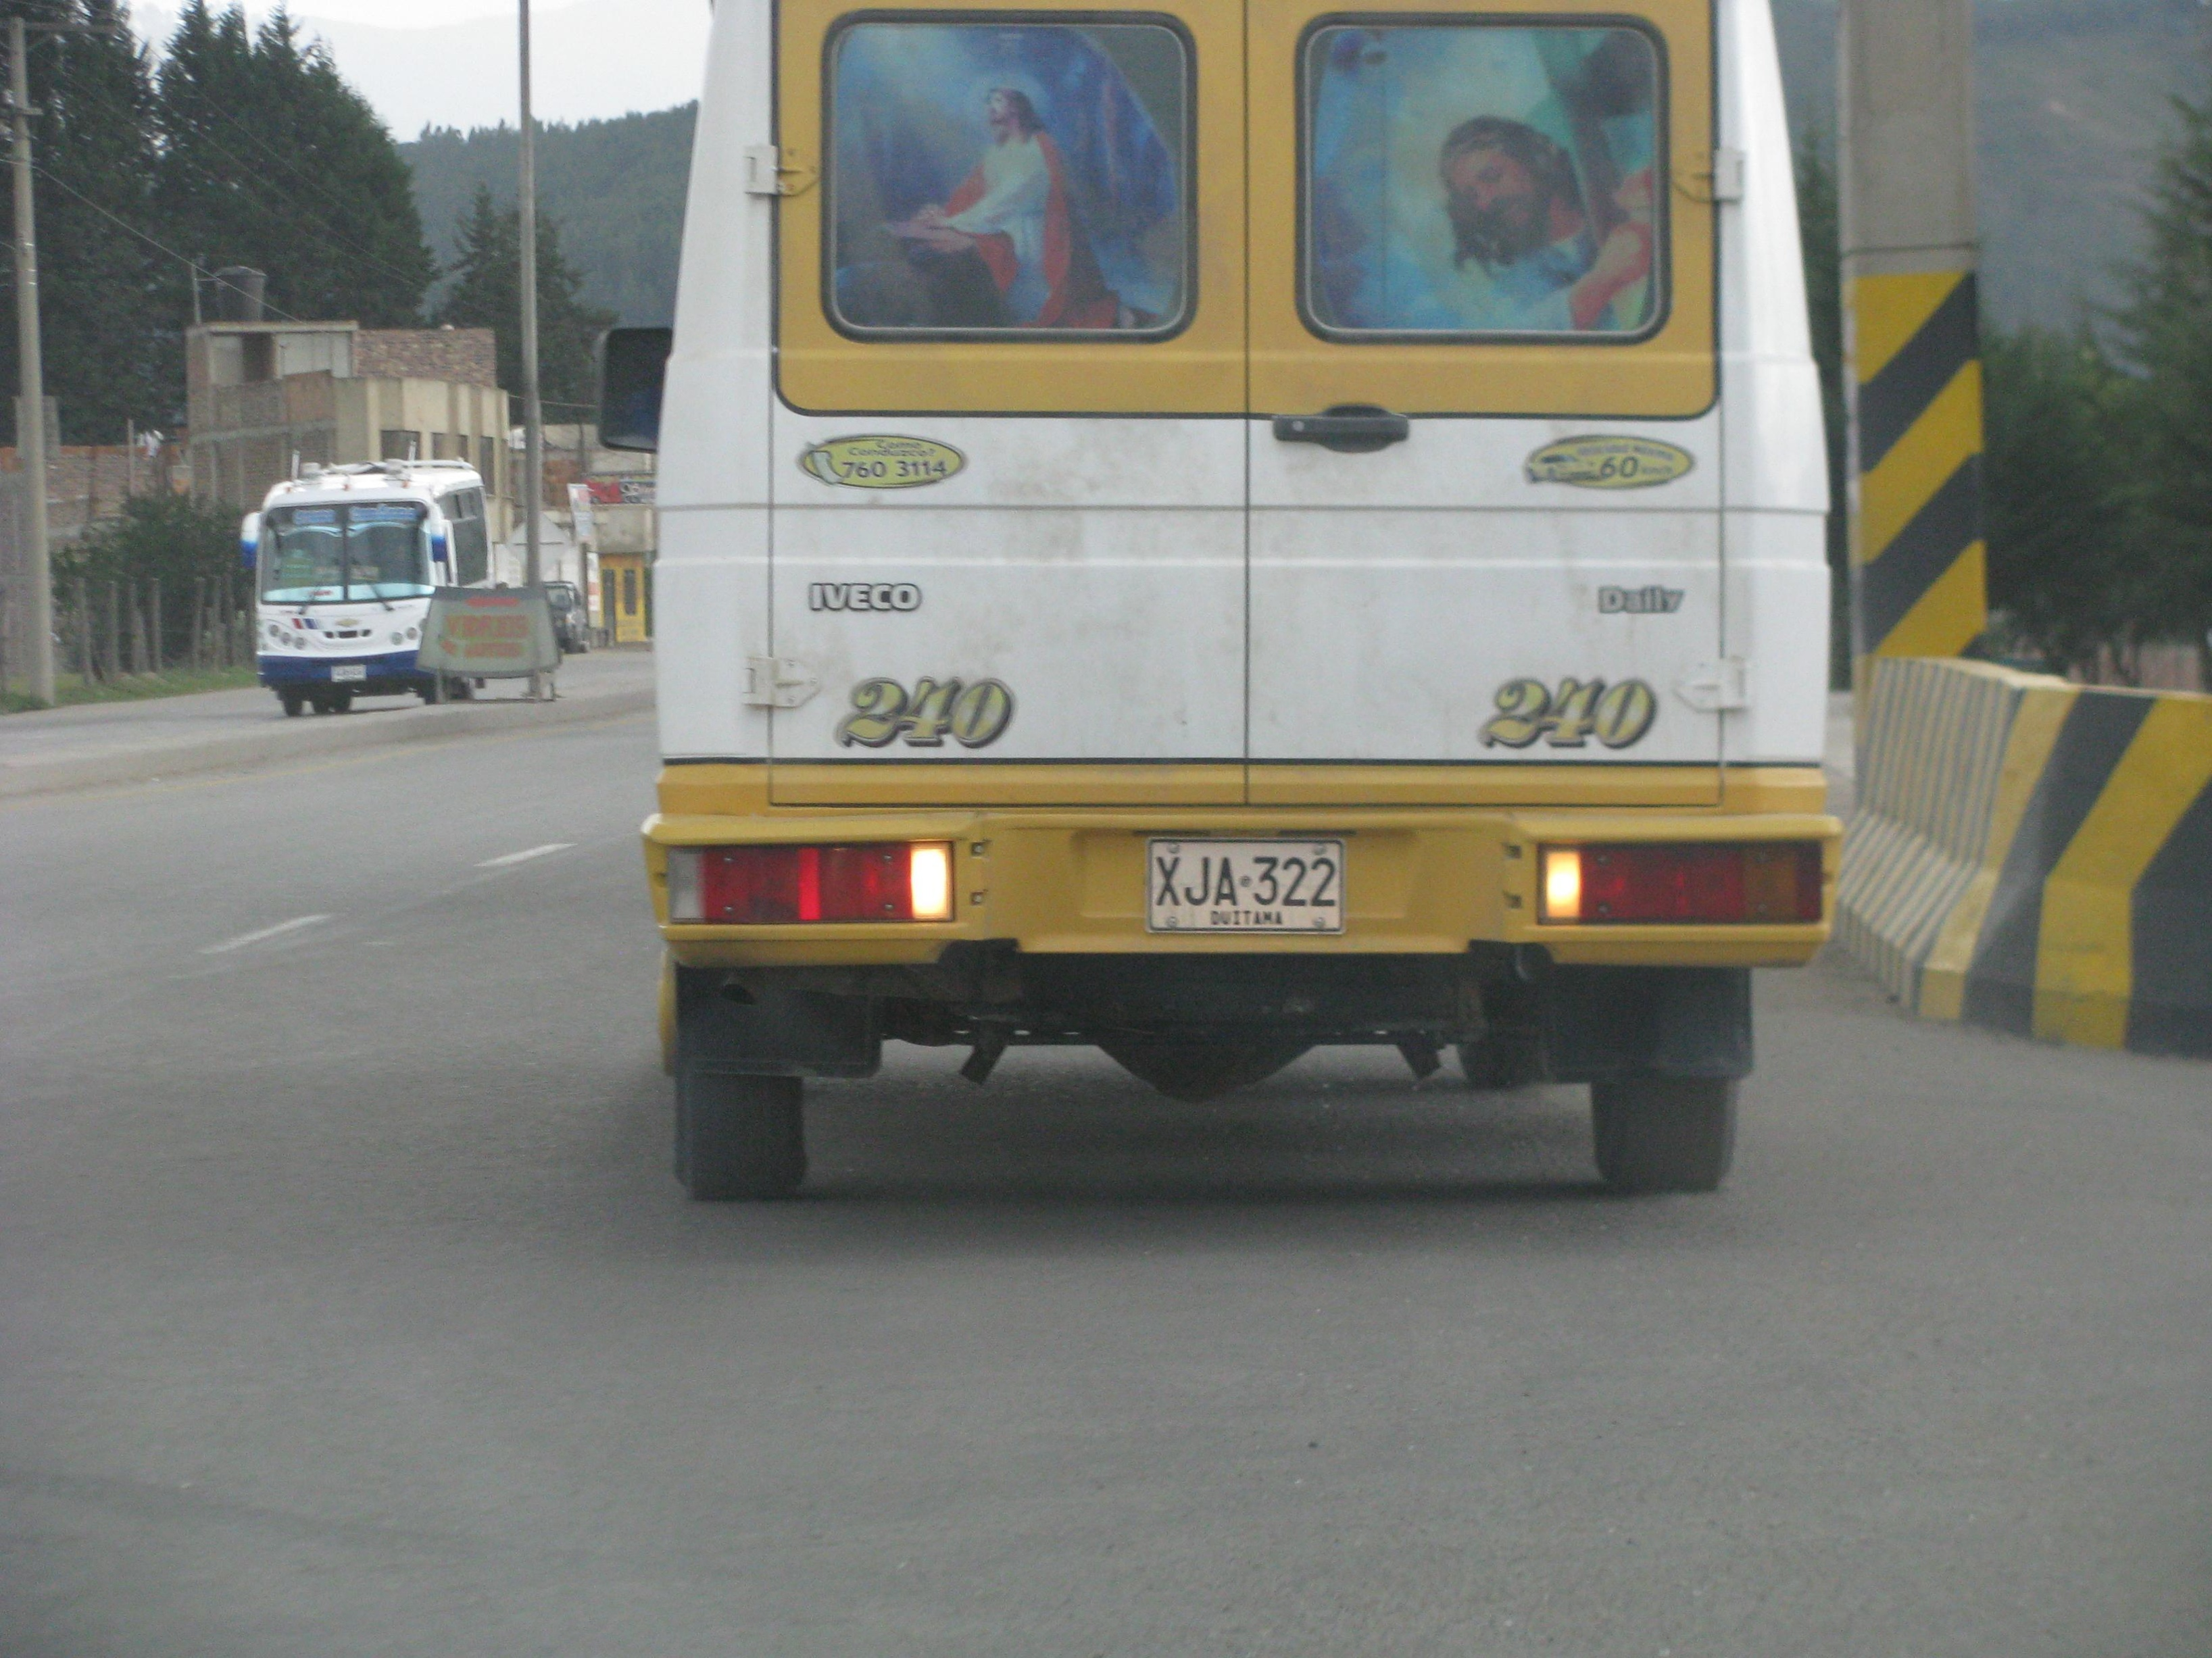placas: (1143, 828, 1351, 948)
